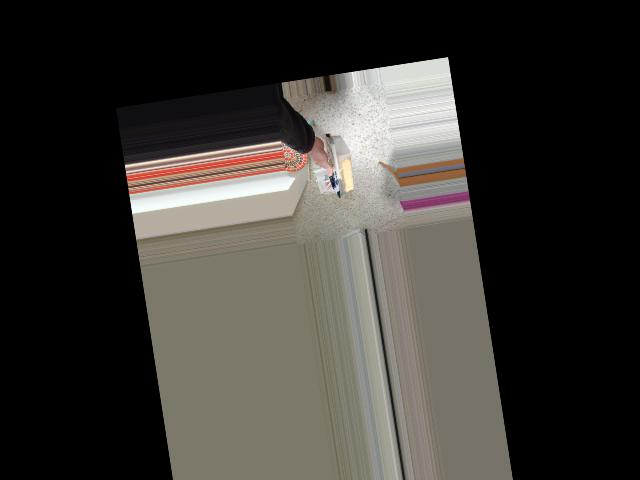cheese: (286, 126, 361, 203)
